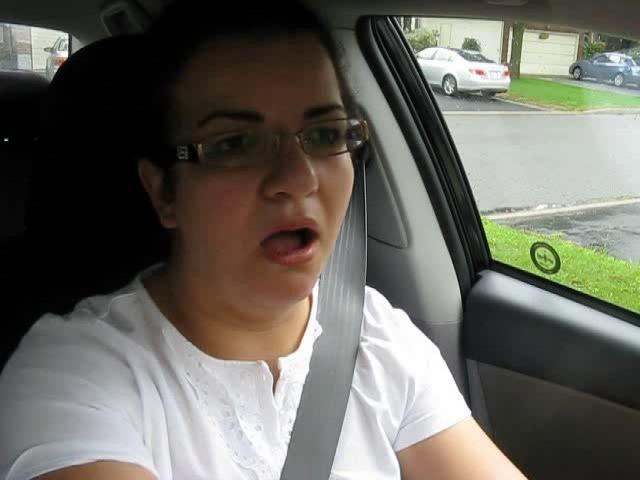eye_open: (201, 128, 264, 160), (300, 122, 347, 152)
face: (181, 75, 359, 321)
mouth_open: (256, 215, 328, 268)
